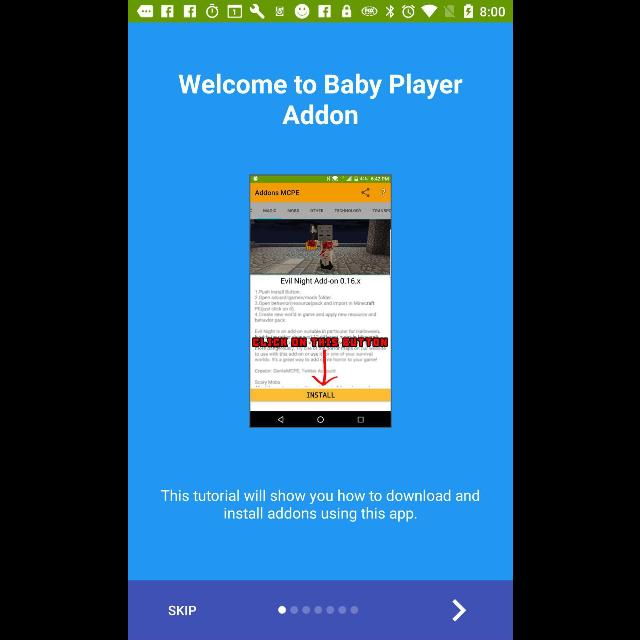icon: (452, 598, 466, 622)
image: (249, 175, 391, 427)
pageindicator: (277, 606, 359, 614)
text: (177, 73, 463, 125), (159, 488, 479, 524), (168, 606, 196, 616)
uppertaskbar: (128, 1, 512, 23)
